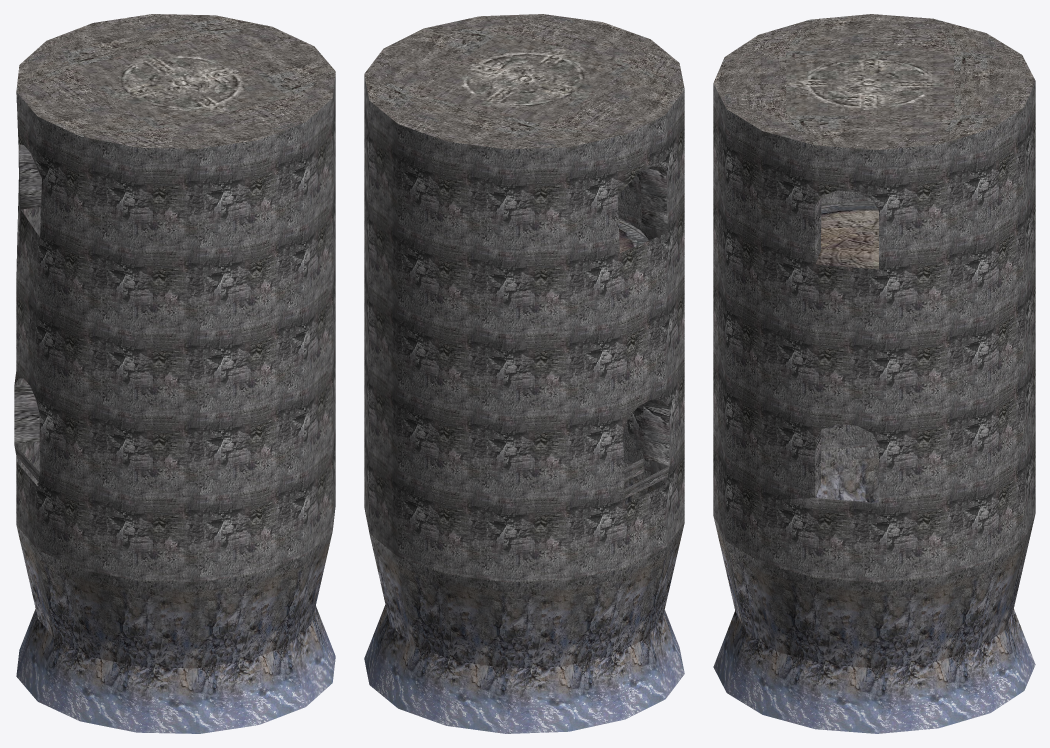
The model's file is tower.FBX.
The picture shows the model from 3 angles, left to right: view 1: azimuth 30°, elevation 25°; view 2: azimuth 150°, elevation 25°; view 3: azimuth 270°, elevation 25°; orthographic projection.
Visible parts, largest first — view 1: NZ05; view 2: NZ05, Room24; view 3: NZ05, Room24.
Boxes of the visible parts, left/top/right/bottom form: NZ05: left=14, top=14, right=335, bottom=733; NZ05: left=364, top=14, right=684, bottom=733; Room24: left=618, top=218, right=648, bottom=252; NZ05: left=713, top=14, right=1035, bottom=733; Room24: left=815, top=200, right=878, bottom=269.
Size of the model in its own units: 502 by 999 by 500.
